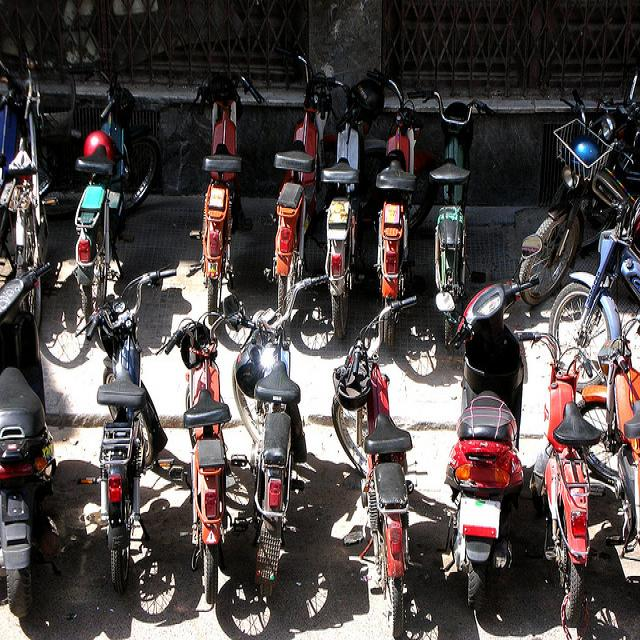motor: (5, 67, 639, 541), (223, 275, 332, 601), (435, 277, 538, 569), (331, 295, 415, 632), (154, 310, 247, 610), (514, 330, 608, 625), (90, 274, 172, 590), (74, 63, 157, 327), (263, 58, 349, 312), (185, 65, 265, 326), (0, 263, 57, 623), (319, 75, 387, 337), (422, 91, 492, 309), (376, 75, 422, 340)
